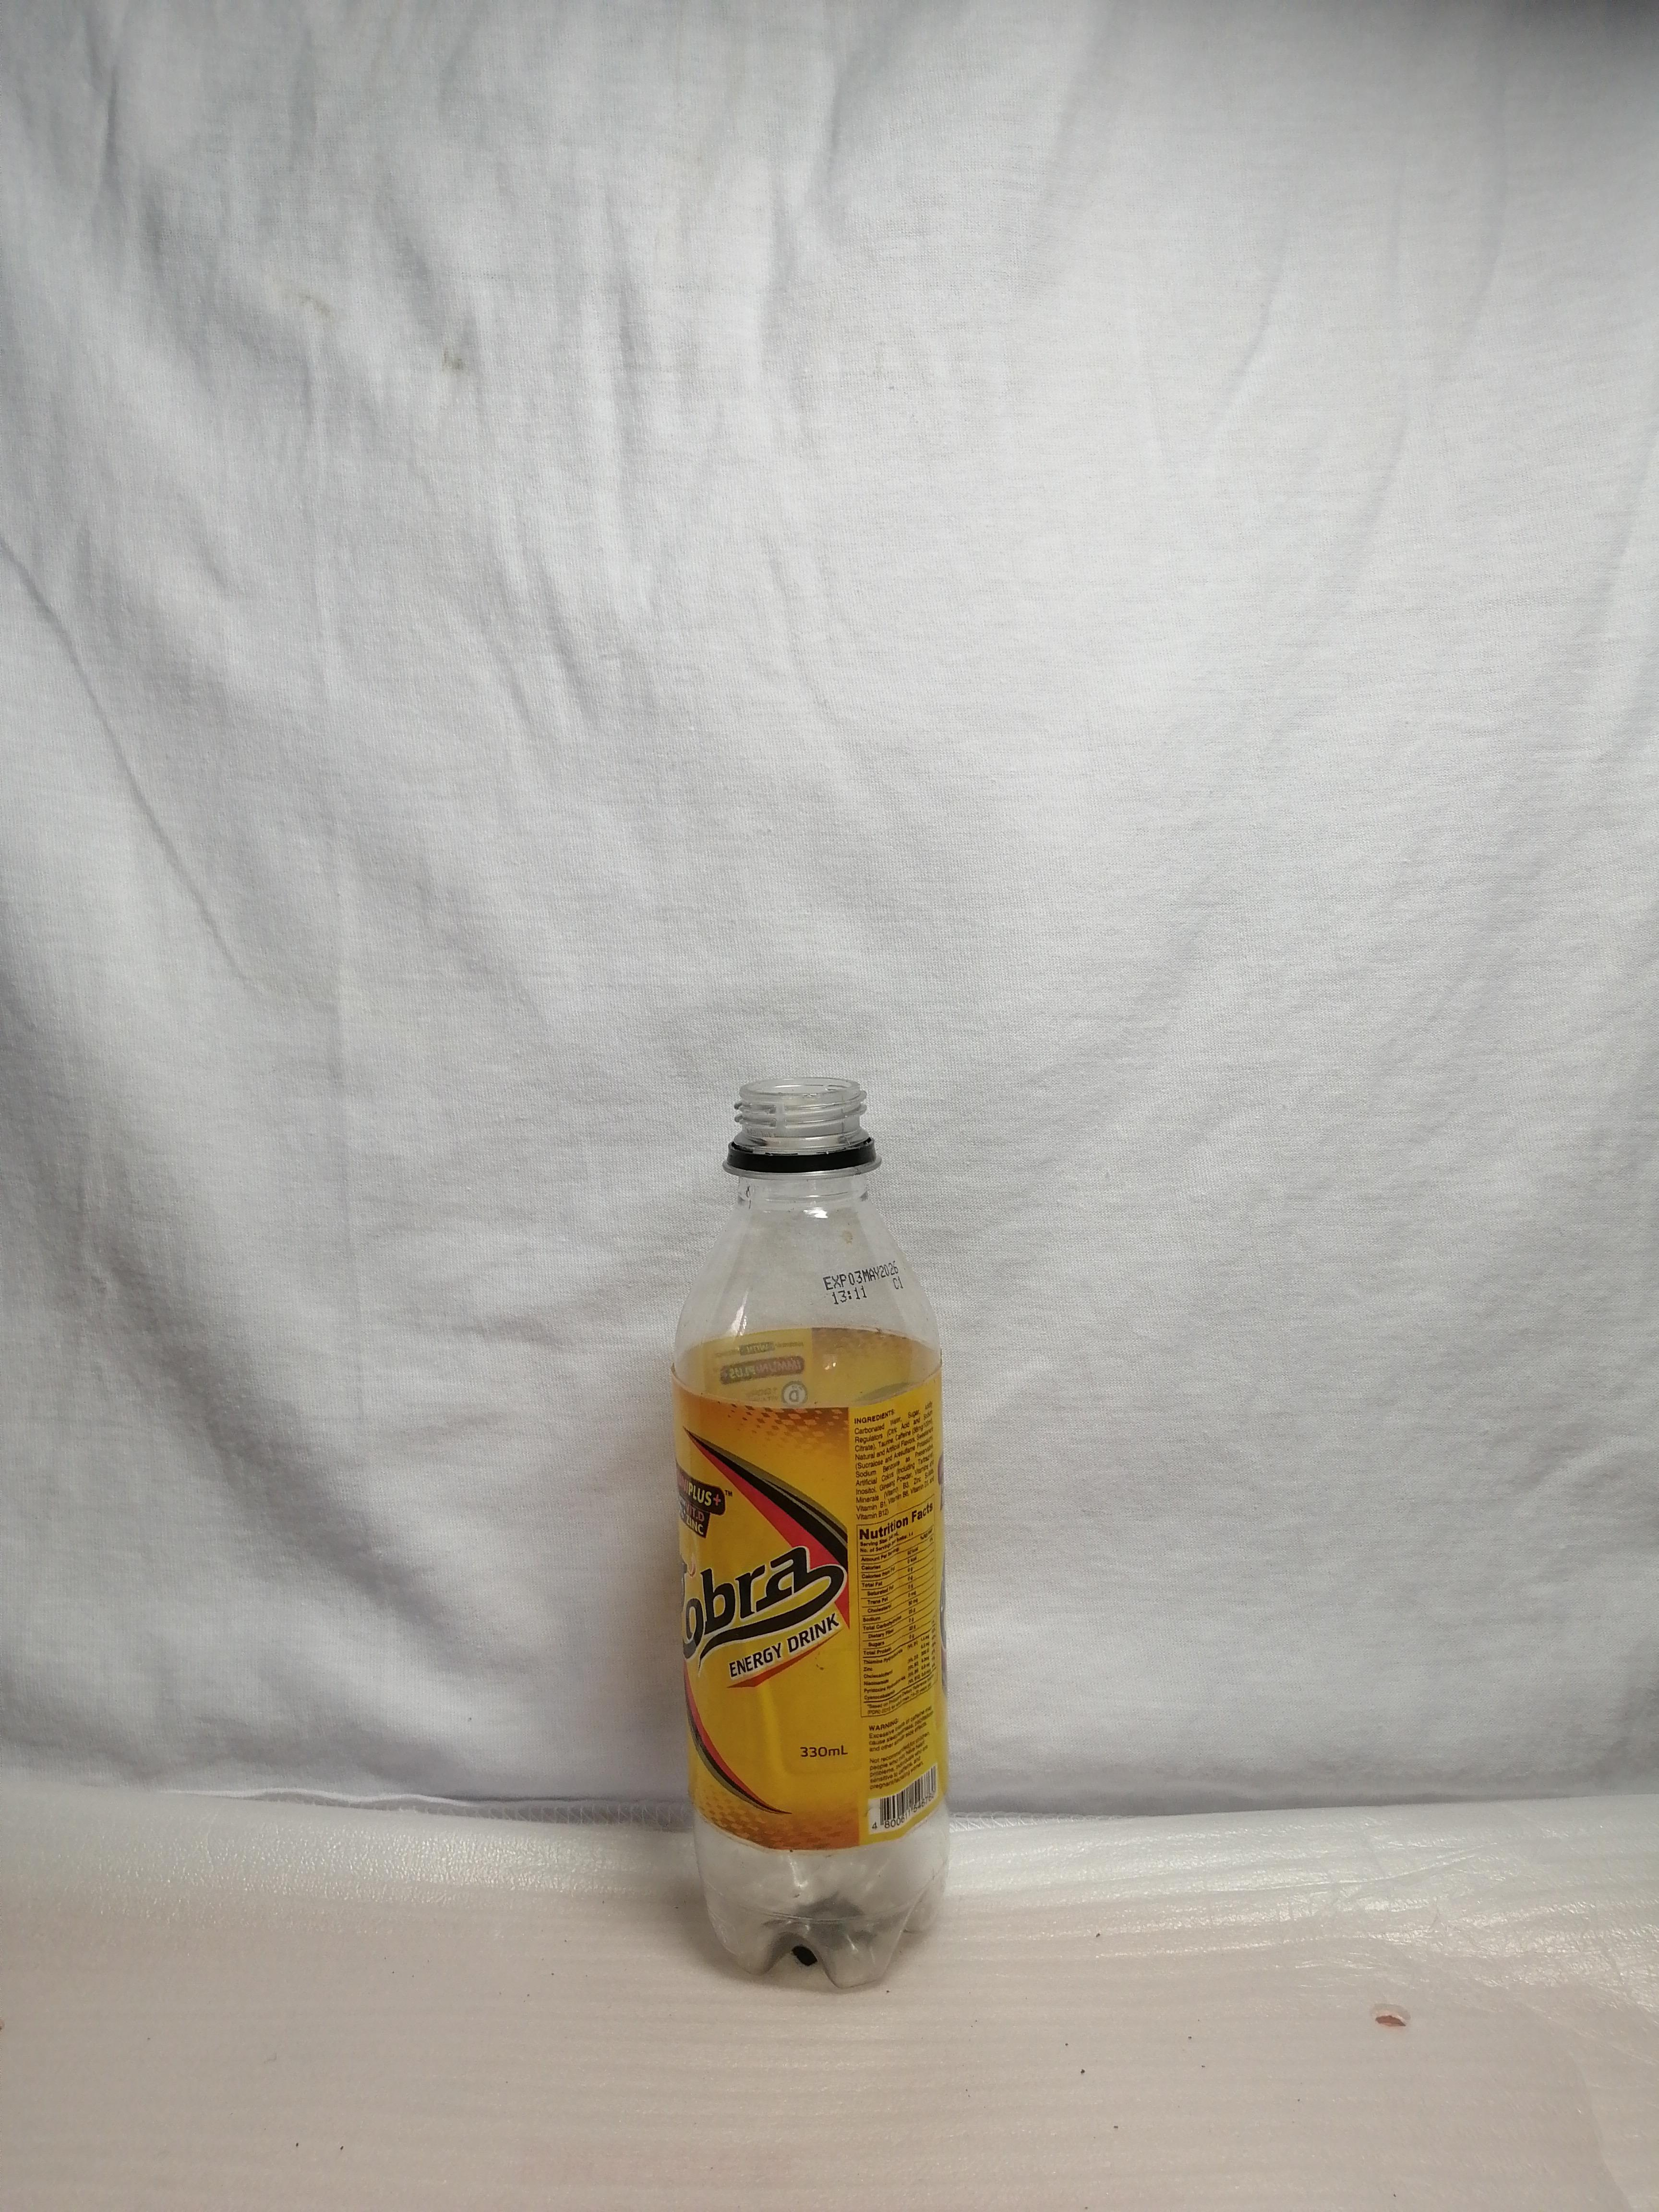plastic-bottle: (629, 1027, 1003, 2021)
